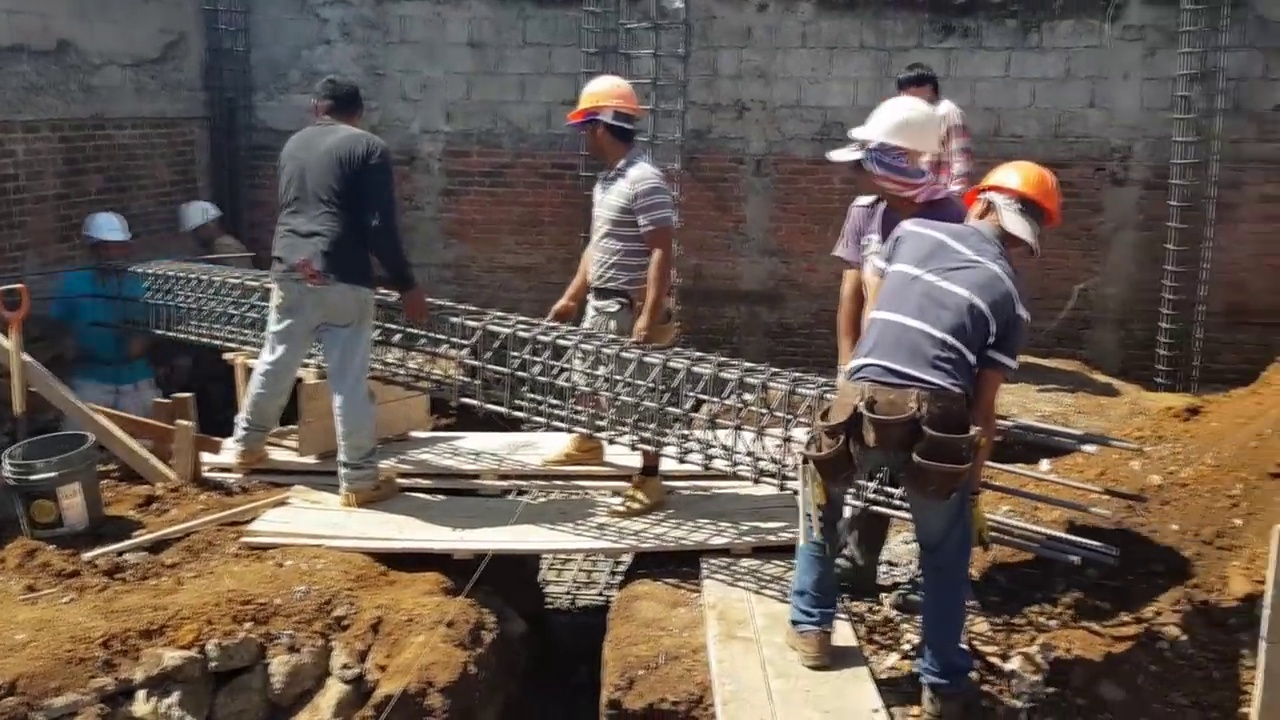helmet: (831, 107, 943, 170), (969, 162, 1060, 233), (560, 74, 643, 133), (178, 194, 223, 236), (78, 211, 132, 242)
helmet-off: (307, 77, 364, 131), (899, 60, 947, 104)
helmet-on: (830, 103, 952, 214), (962, 161, 1063, 264), (559, 73, 642, 172), (76, 210, 131, 275), (173, 192, 220, 247)
person: (802, 103, 1057, 672), (218, 77, 417, 508), (538, 61, 681, 473), (823, 104, 951, 386), (55, 210, 151, 448), (173, 193, 258, 409), (893, 57, 983, 211)
